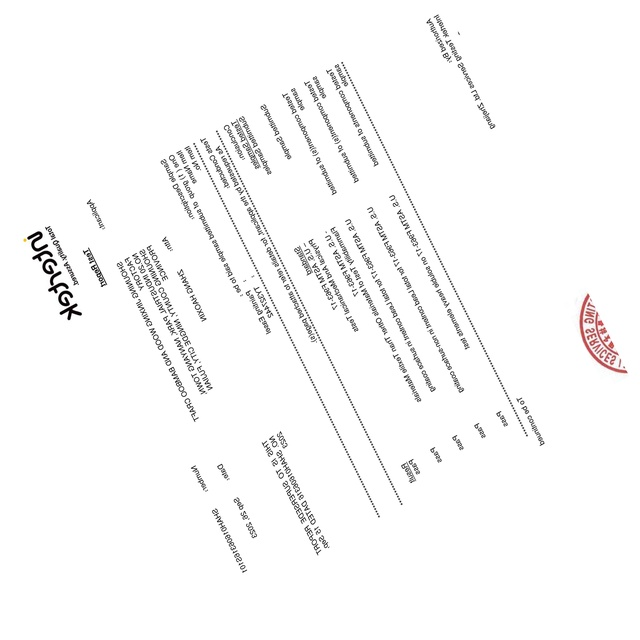intertek: (21, 226, 85, 328)
